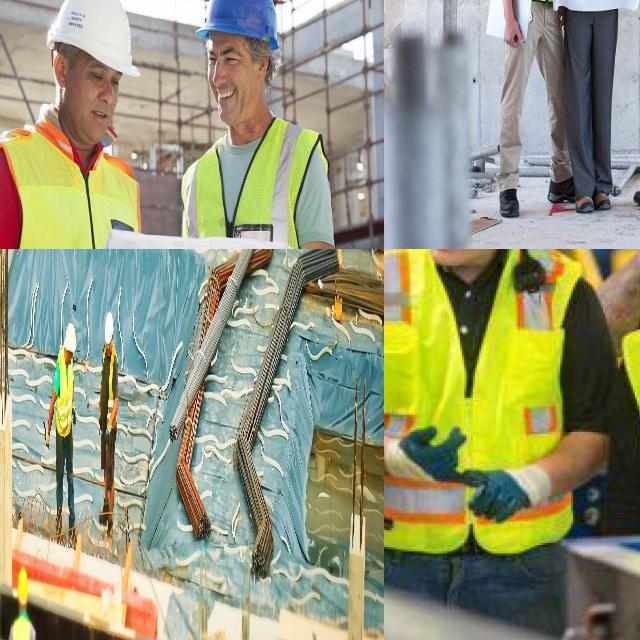No_Ear-Protection: (50, 46, 70, 97)
face_nomask: (68, 52, 125, 150), (200, 31, 260, 121)
hand_glove: (384, 423, 479, 495), (471, 462, 560, 521), (43, 420, 50, 453), (107, 410, 112, 442)
hand_noglove: (496, 20, 527, 51)
head_helmet: (48, 0, 144, 80), (196, 0, 285, 44), (16, 572, 32, 604), (63, 322, 76, 359), (103, 312, 114, 340)
person: (384, 249, 605, 626), (0, 0, 147, 249), (185, 0, 318, 249), (513, 0, 567, 205), (570, 0, 617, 209), (96, 308, 124, 533), (51, 324, 79, 528), (6, 555, 44, 640)
shoes: (496, 184, 522, 221), (570, 186, 596, 222), (590, 184, 612, 213), (630, 182, 640, 209)
vest: (384, 249, 581, 553), (181, 119, 332, 249), (0, 132, 146, 249), (55, 359, 74, 433), (100, 363, 119, 433), (11, 618, 37, 640)
